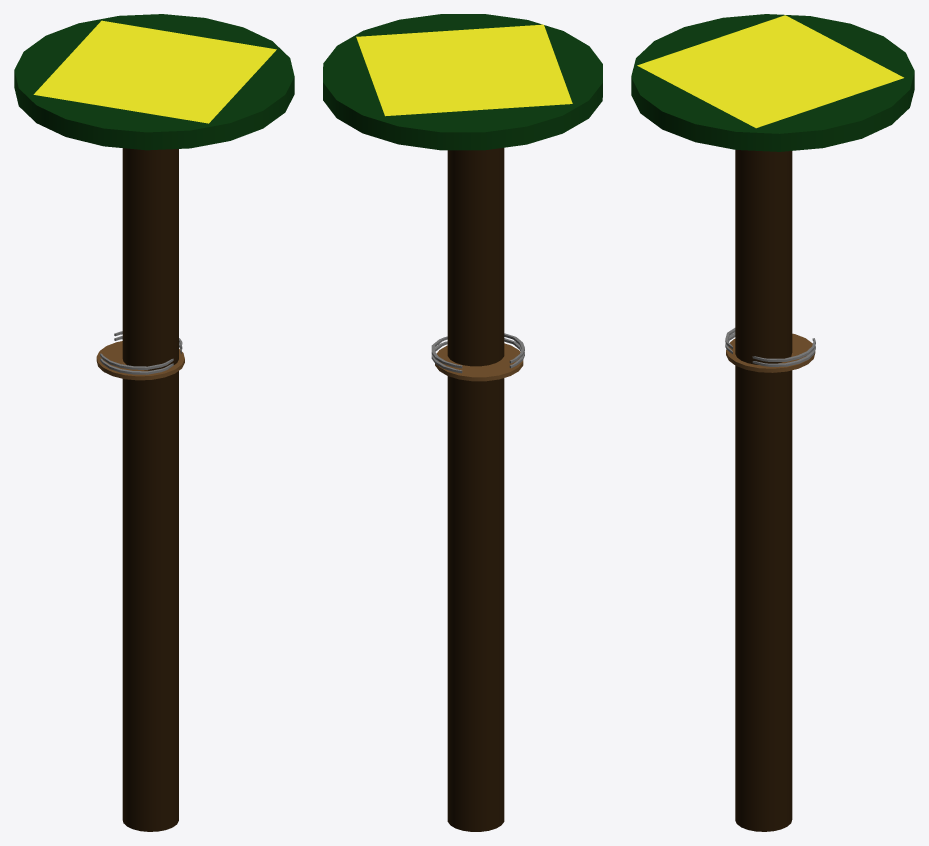
File: Home 09.fbx
3 renders of one model, left to right at view 1: azimuth 30°, elevation 25°; view 2: azimuth 150°, elevation 25°; view 3: azimuth 270°, elevation 25°, orthographic.
Parts seen in each view (by area): view 1: Tree_02__1_, Branches, Plane__3_, Platform__3_; view 2: Tree_02__1_, Branches, Plane__3_, Platform__3_; view 3: Tree_02__1_, Branches, Plane__3_, Platform__3_.
Part boxes in pixels (left/top/right/bottom): Tree_02__1_: left=122, top=148, right=178, bottom=831; Branches: left=14, top=14, right=294, bottom=150; Plane__3_: left=33, top=20, right=276, bottom=123; Platform__3_: left=96, top=341, right=184, bottom=380; Tree_02__1_: left=447, top=147, right=504, bottom=831; Branches: left=323, top=14, right=602, bottom=150; Plane__3_: left=356, top=24, right=572, bottom=116; Platform__3_: left=435, top=343, right=523, bottom=381; Tree_02__1_: left=735, top=150, right=792, bottom=831; Branches: left=631, top=14, right=914, bottom=151; Plane__3_: left=637, top=15, right=903, bottom=128; Platform__3_: left=726, top=333, right=815, bottom=372.
Size of the model in its own units: 5366 by 15699 by 5366.
